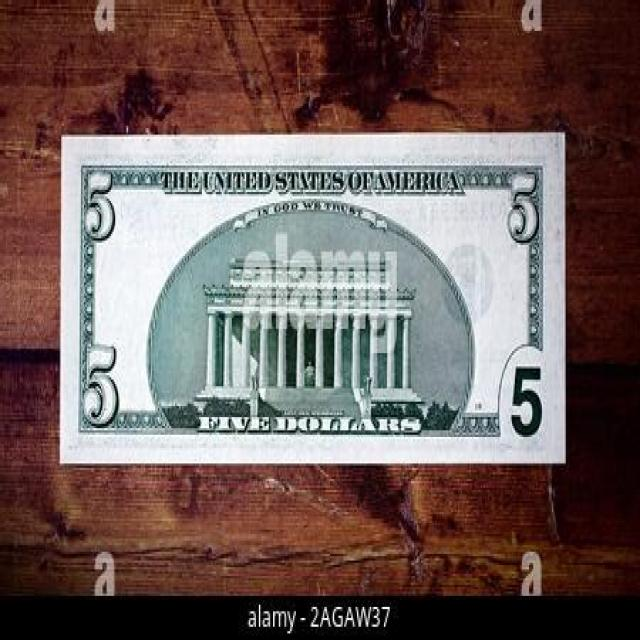Five: (61, 136, 566, 463)
